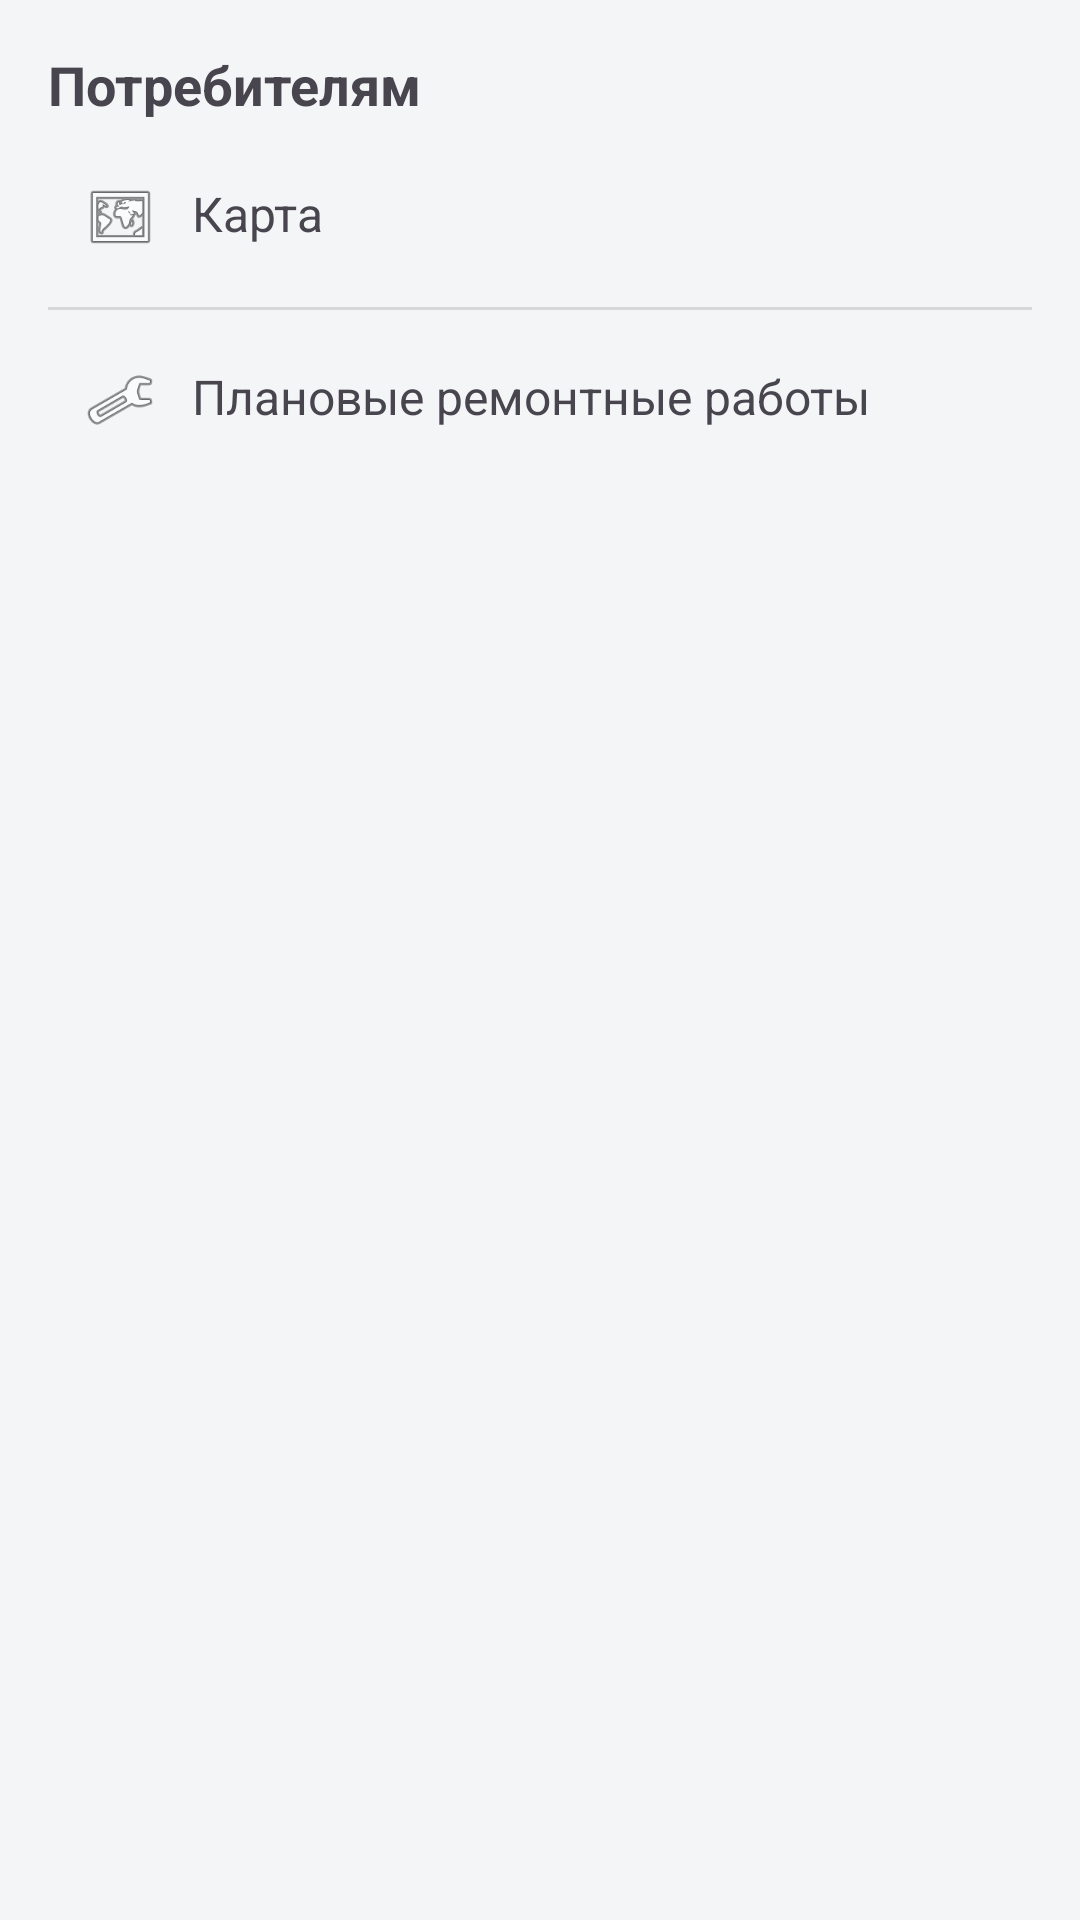

Icons on this 1080x1920 Android screen, each with its box as (x1, y1, x2, y2):
manage: (87, 375, 152, 425)
mapmode: (90, 191, 150, 243)
